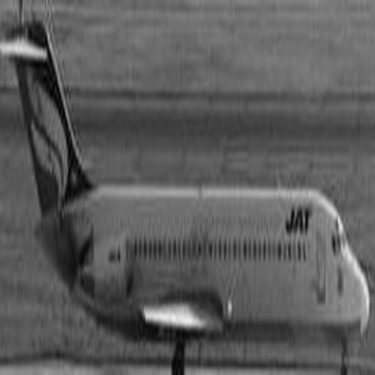airplane: (2, 2, 372, 371)
